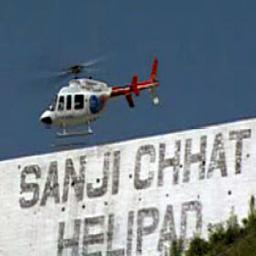helicopter: (29, 51, 171, 153)
